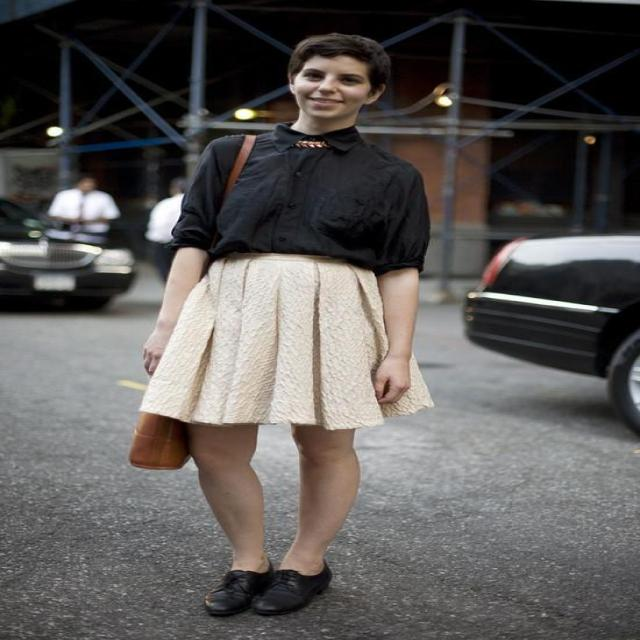shirt: (168, 122, 430, 274)
skirt: (139, 251, 434, 432)
